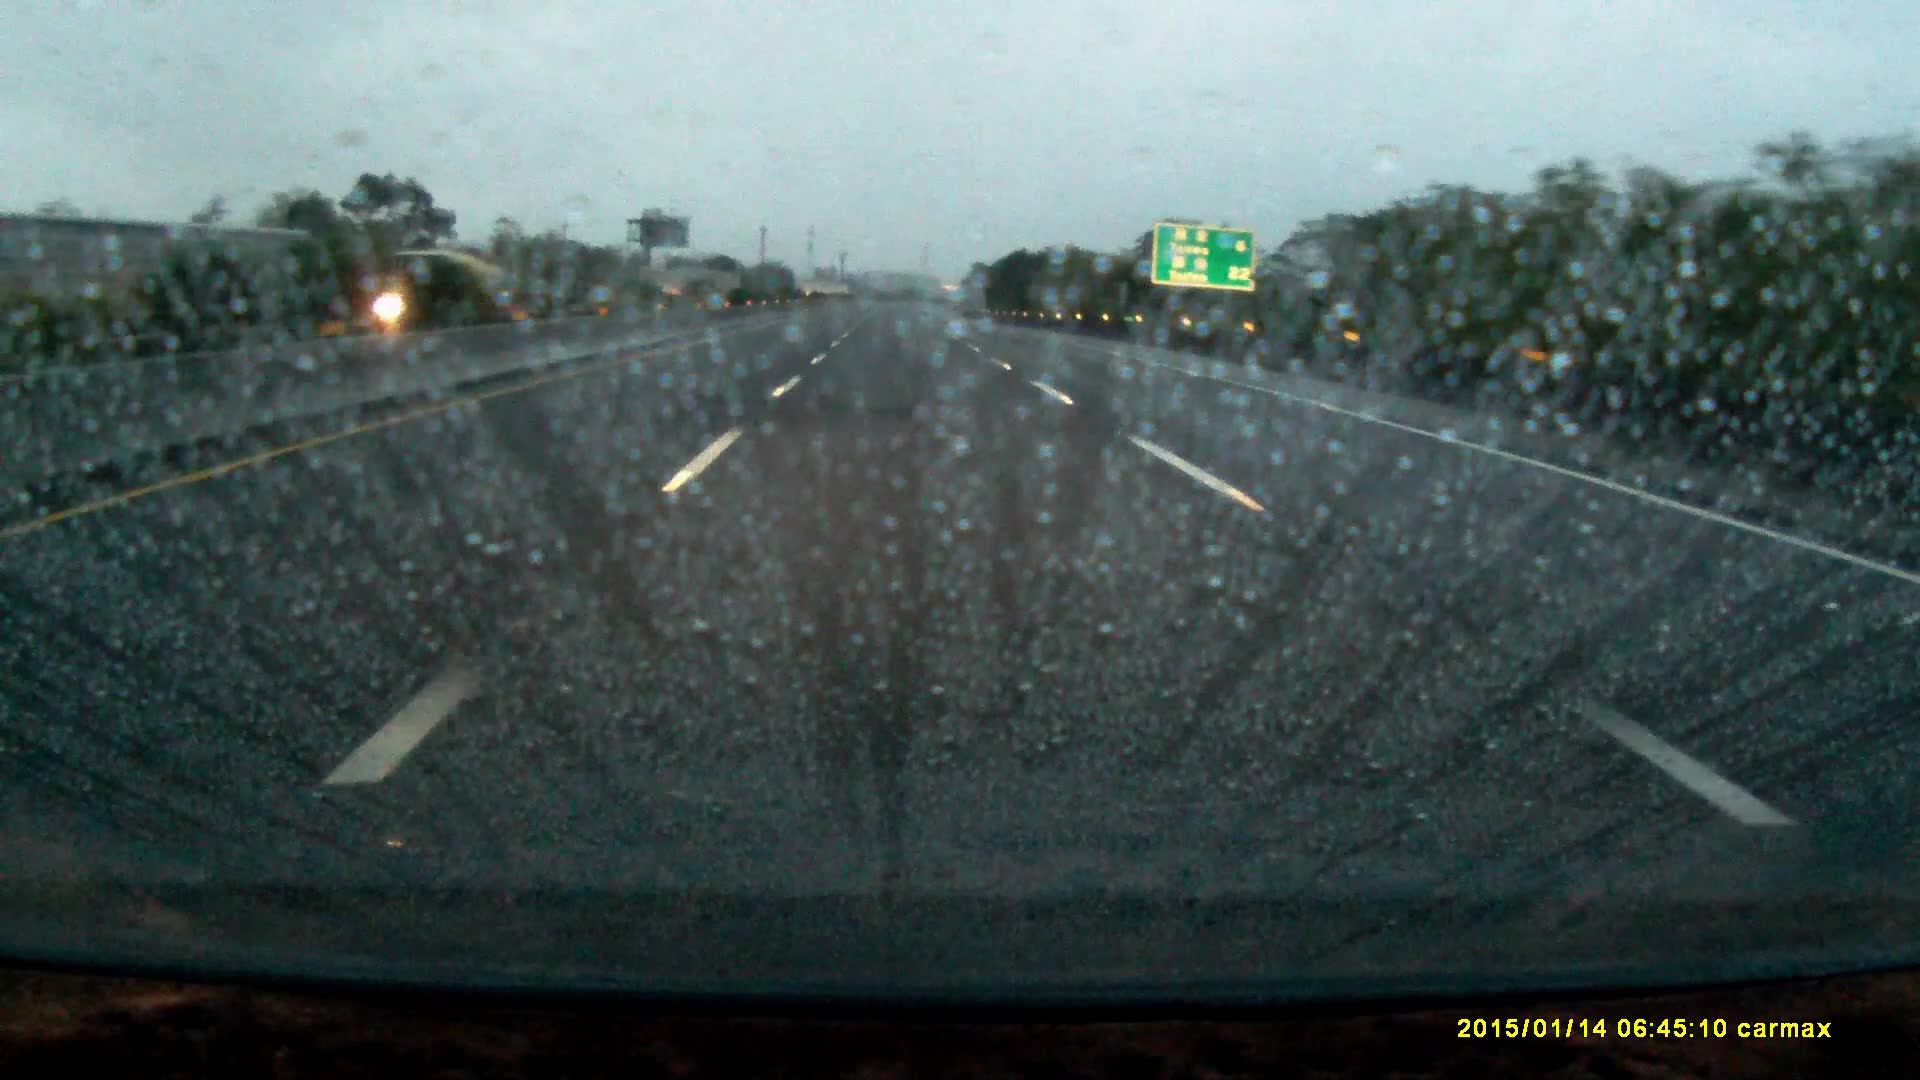vehicle: (377, 251, 513, 320)
